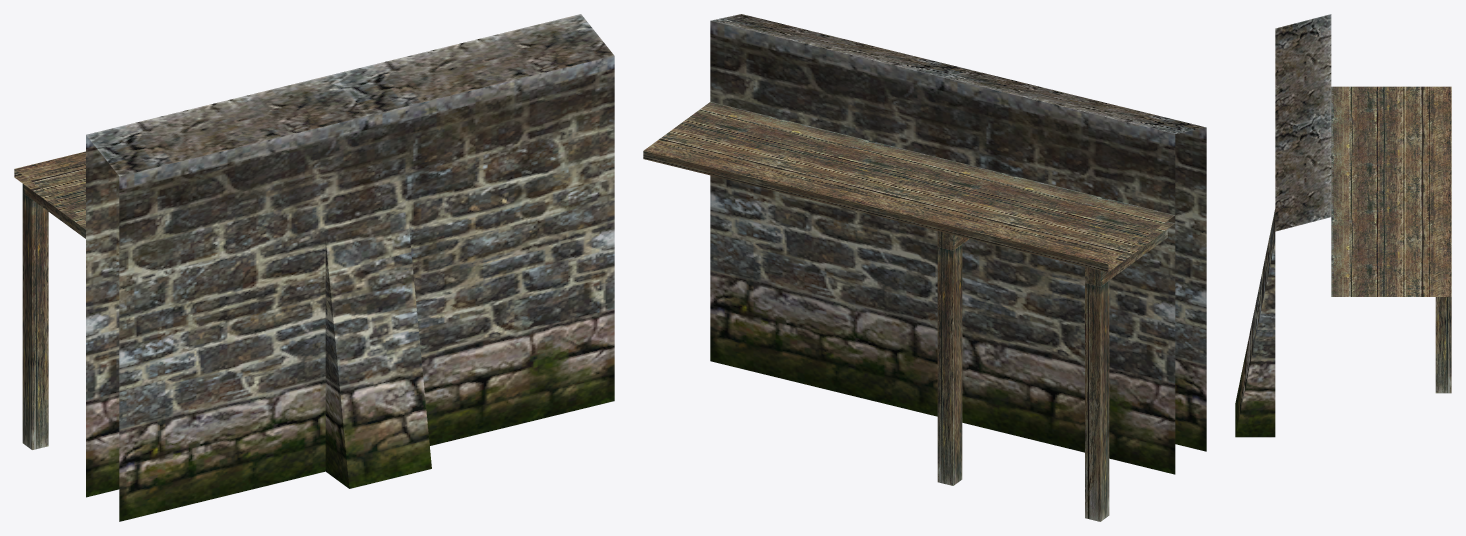
The model's file is mhouse20d.glb.
3 views of the same model, side by side, from view 1: azimuth 30°, elevation 25°; view 2: azimuth 150°, elevation 25°; view 3: azimuth 270°, elevation 25° (orthographic). The views are drawn at different scales.
Parts seen in each view (by area): view 1: mhouse20d; view 2: mhouse20d; view 3: mhouse20d.
Part boxes in pixels (left/top/right/bottom): mhouse20d: left=14, top=14, right=614, bottom=521; mhouse20d: left=643, top=14, right=1206, bottom=521; mhouse20d: left=1235, top=14, right=1451, bottom=437.
Bounding box in the file's own units: 6 × 4.2 × 2.7.
4 materials, 4 textured.
